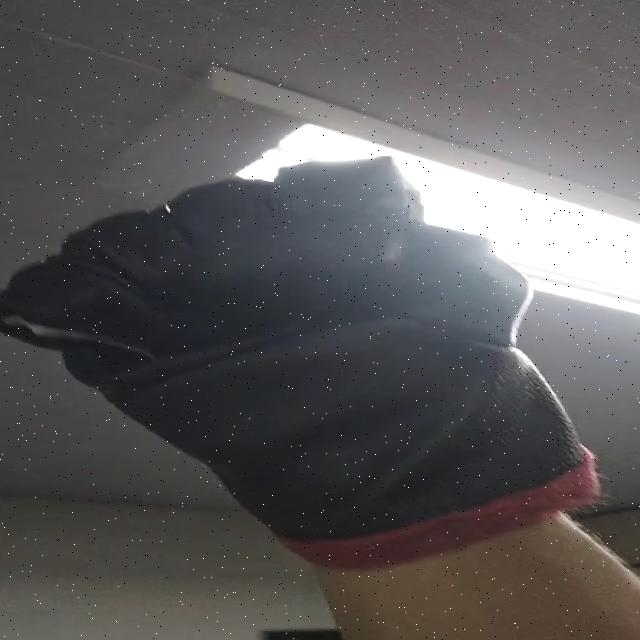Gloves: (0, 156, 597, 571)
